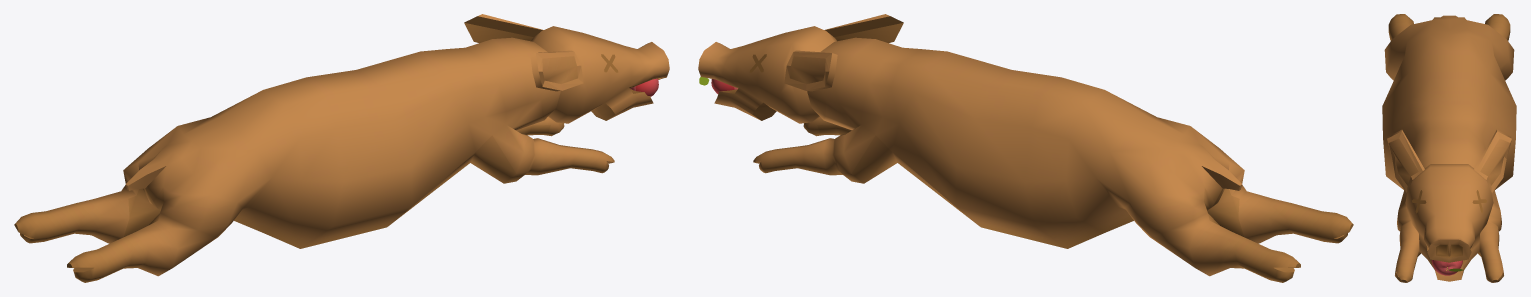
The model's file is Lichon_Finish_Present.FBX.
3 renders of one model, left to right at view 1: azimuth 30°, elevation 25°; view 2: azimuth 150°, elevation 25°; view 3: azimuth 270°, elevation 25°, orthographic. The views are drawn at different scales.
Parts seen in each view (by area): view 1: Lichon_Finish; view 2: Lichon_Finish; view 3: Lichon_Finish.
Boxes of the visible parts, bbox=[...] form: Lichon_Finish: bbox=[14, 14, 669, 282]; Lichon_Finish: bbox=[698, 14, 1353, 282]; Lichon_Finish: bbox=[1382, 14, 1516, 282].
Size of the model in its own units: 108 by 25.58 by 22.58.
3 materials, 3 textured.
